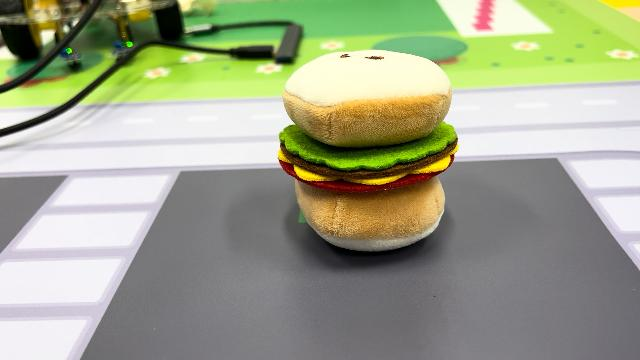sandwich: (275, 47, 461, 253)
